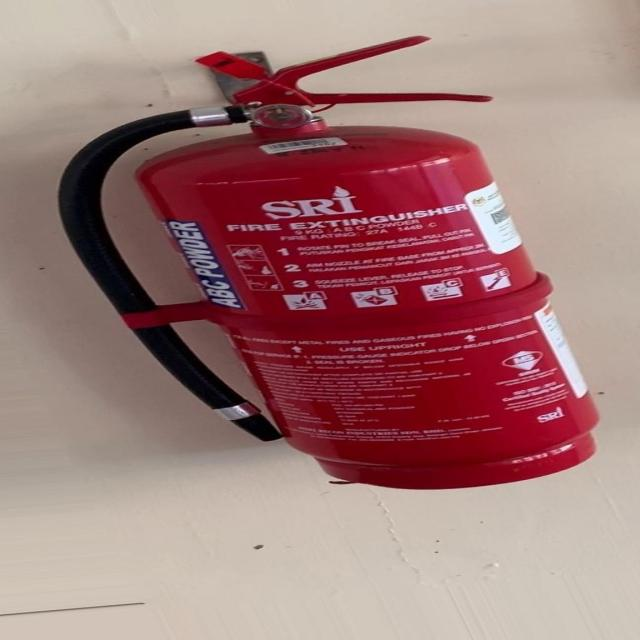fire_extinguisher: (45, 27, 614, 497)
